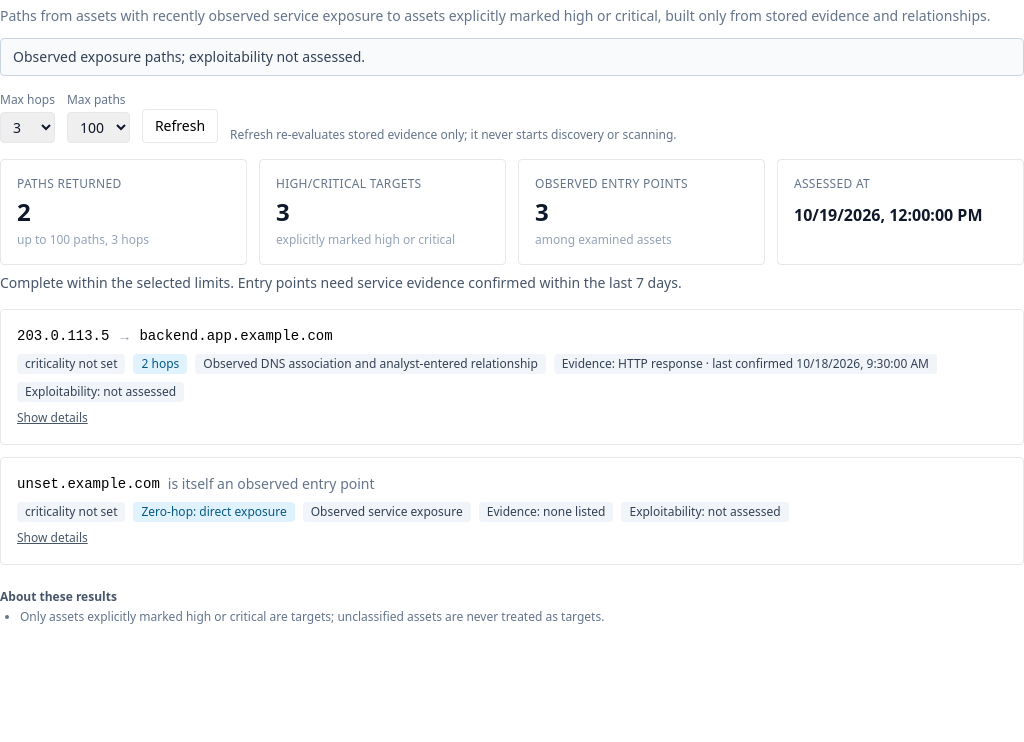
ExposurePathsPage › handles null and missing optional values without inventing data
Check: the text "criticality not set" next to "2 hops" is shown, box x1=25 y1=355 x2=118 y2=372
Click the button "Show details" below "203.0.113.5" at (52, 418), box x1=17 y1=410 x2=88 y2=426
(page scrolled)
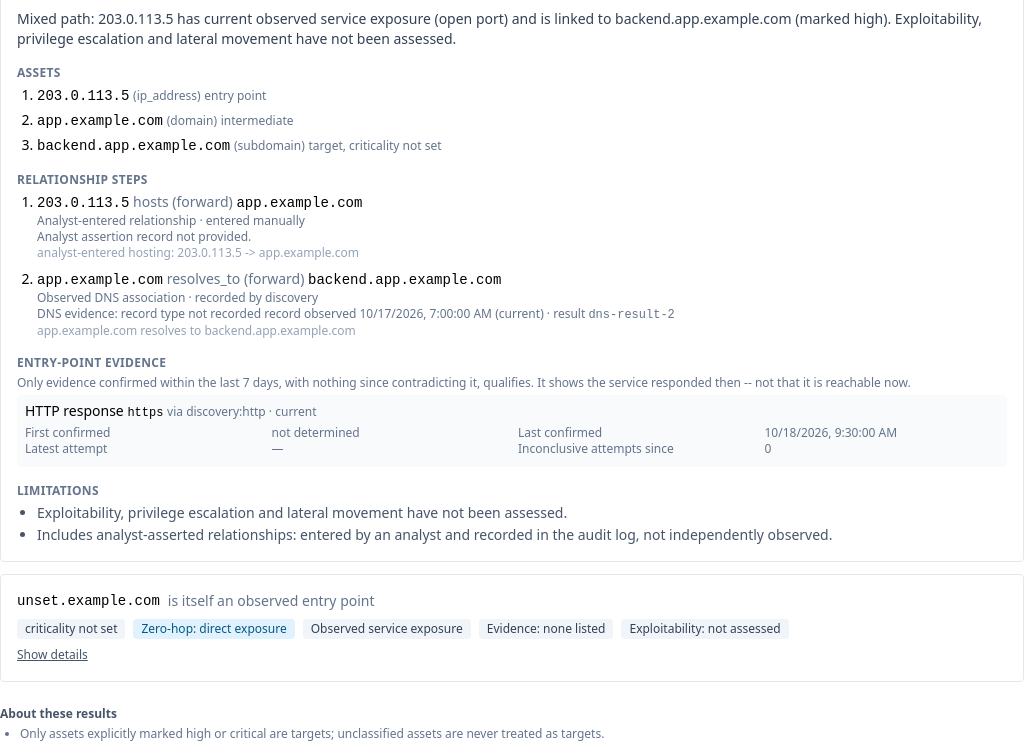
Check: the text "Evidence: none listed" is shown, box x1=479 y1=619 x2=614 y2=639
Check: the text "Analyst assertion record not provided." is shown, box x1=37 y1=228 x2=251 y2=245
Check: the text "record type not recorded record observed" is shown, box x1=37 y1=305 x2=675 y2=322
